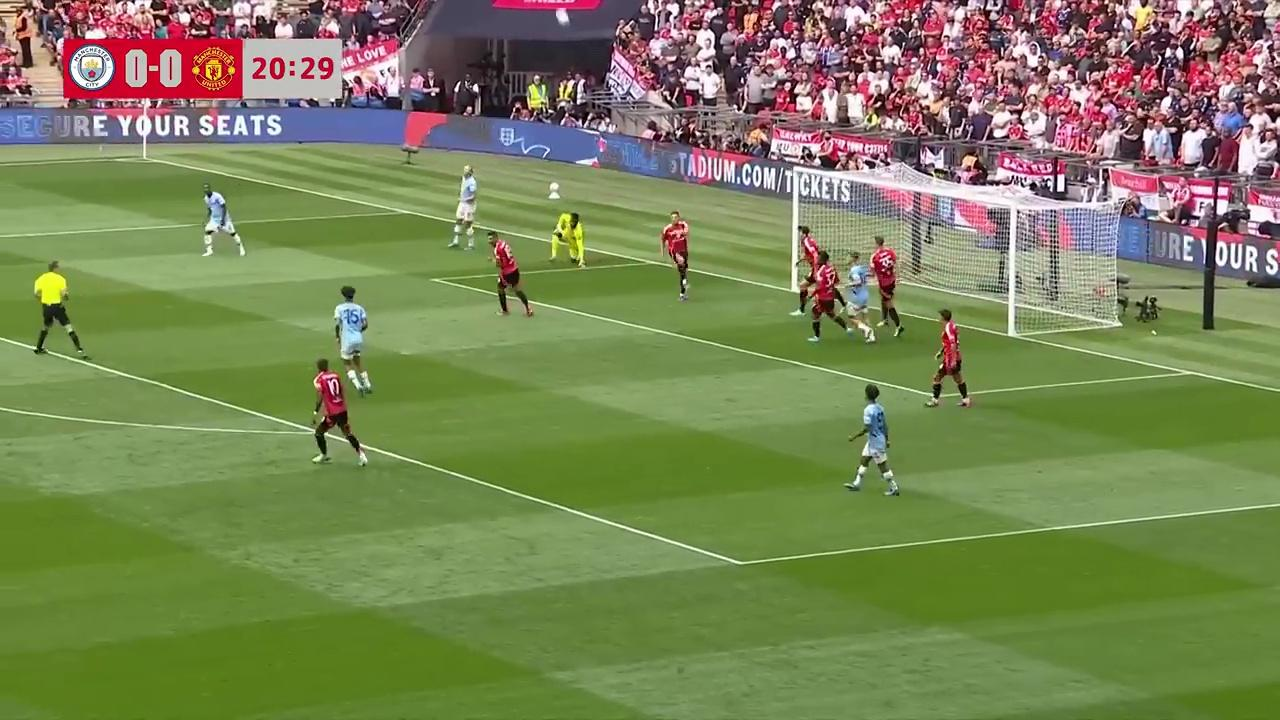player: (843, 383, 901, 496), (311, 358, 366, 464), (925, 306, 973, 408), (867, 237, 910, 337), (333, 287, 372, 394), (488, 236, 533, 318), (805, 257, 846, 343), (201, 187, 245, 257), (792, 222, 822, 313), (841, 254, 871, 342), (448, 166, 477, 250), (663, 208, 689, 300), (553, 211, 586, 266)
referee: (32, 259, 83, 354)
